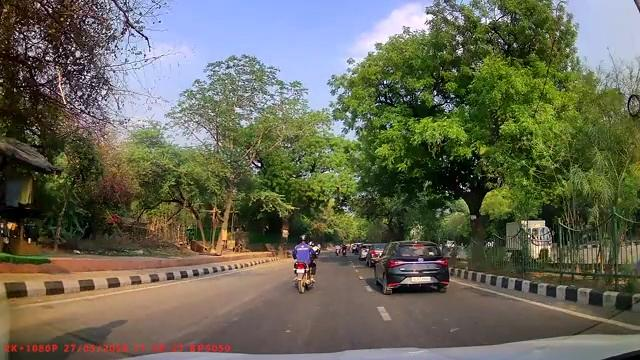motorcycle_with_helmet: (291, 234, 316, 294)
